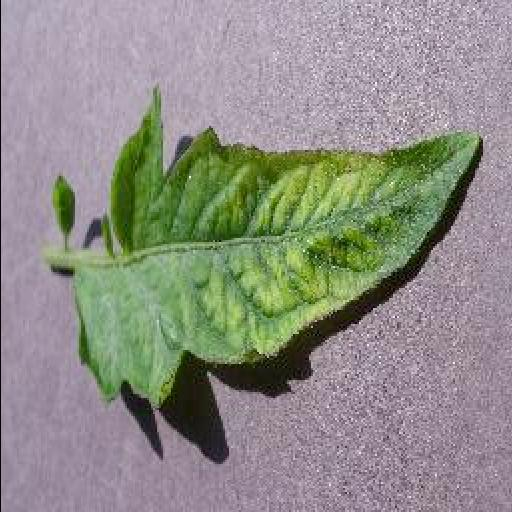Mosaic Virus: (74, 90, 482, 408)
